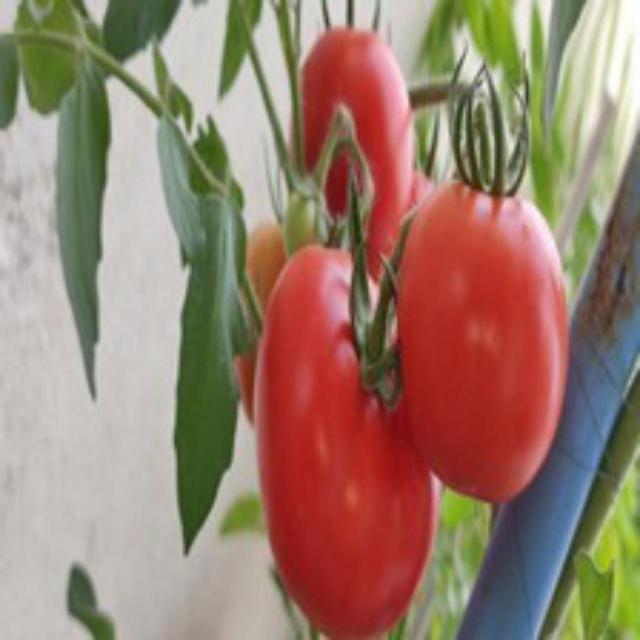tomato: (392, 71, 581, 514), (242, 231, 442, 637)
